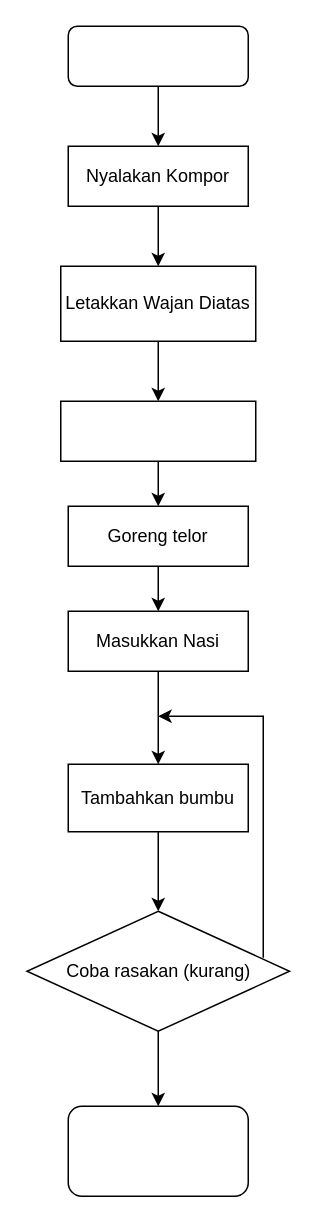
Some shapes in this 315 by 1223 pixel diagram are drawn without their labels. The shapes that lost their labels are listed below. From the top down, each one's centre as x and y in pixels, then its label:
the point at 157,55: Mulai
the point at 157,430: Tuangkan sedikit minyak
the point at 157,1150: Nasi Goreng Jadi
